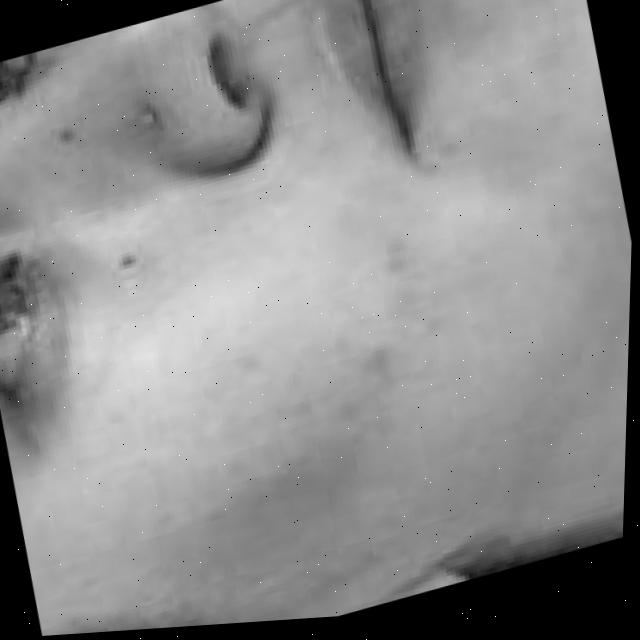Acne: (209, 213, 520, 475)
